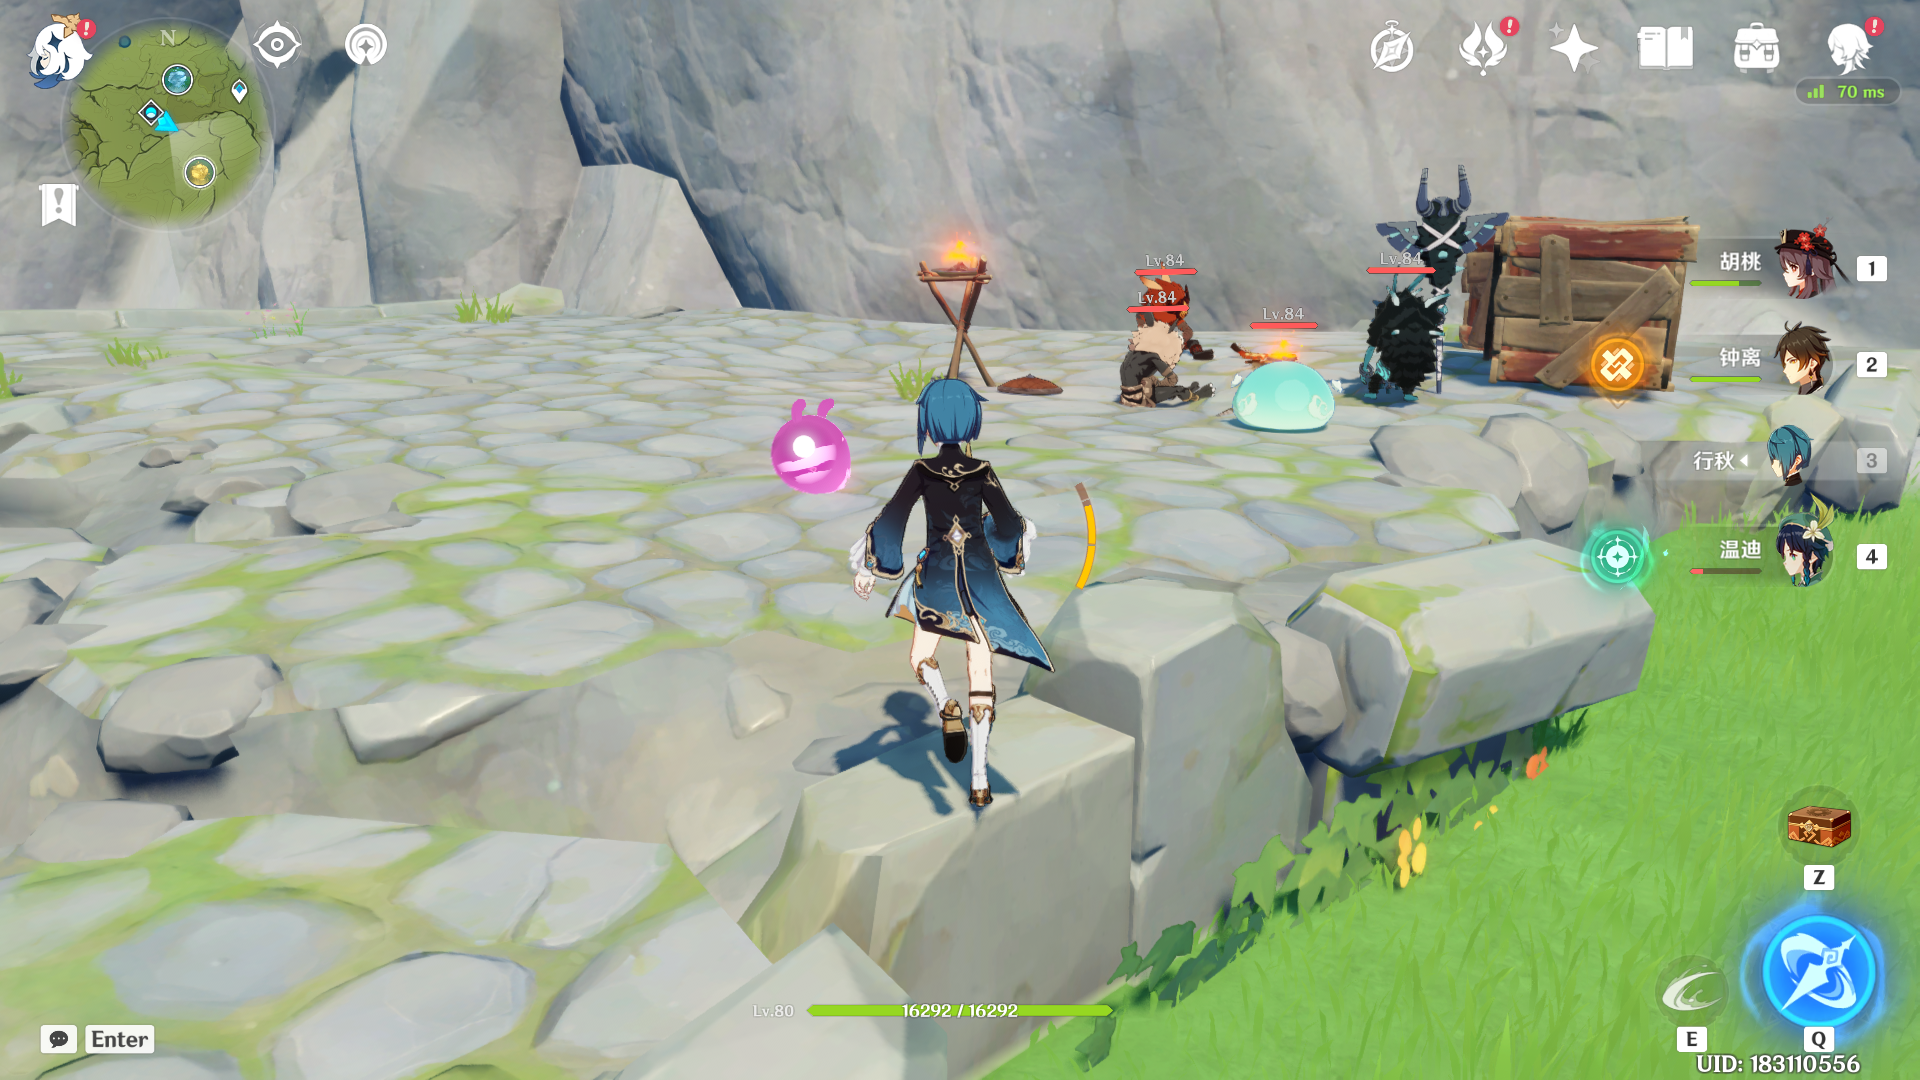character: (804, 359, 1069, 823)
hili: (1335, 169, 1505, 417), (1093, 320, 1220, 419), (1126, 258, 1237, 357)
slime: (1215, 342, 1358, 458)
